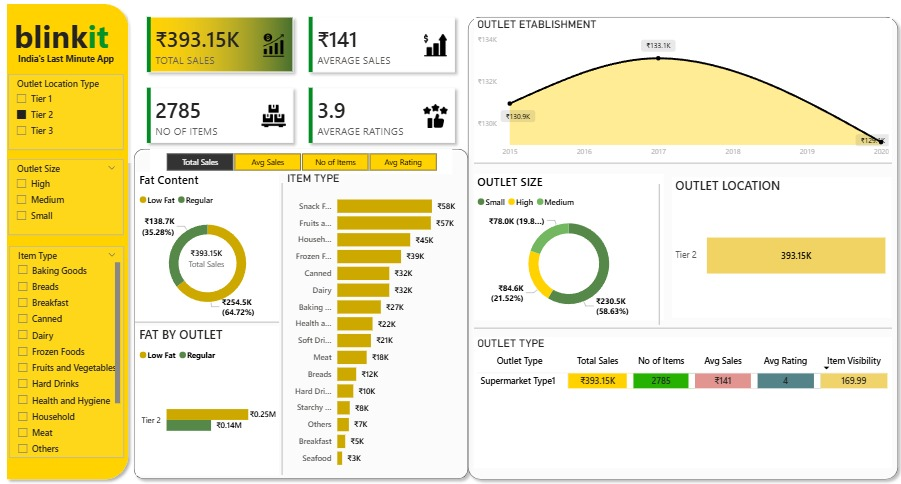

The page's visual inventory and layout, read from the dashboard file:
{"tool":"powerbi","page":{"name":"Page 1","canvas":[1400,800],"ordinal":0},"visuals":[{"type":"shape","box":[10,0,205,750],"z":0},{"type":"textbox","box":[26.8,20.5,159.1,75.6],"z":1000},{"type":"textbox","box":[15.7,80.3,190.6,31.5],"z":2000},{"type":"cardVisual","fields":{"Data":["BlinkIT Grocery Data.Total Sales","BlinkIT Grocery Data.Avg Sales","BlinkIT Grocery Data.No of Items","BlinkIT Grocery Data.Avg Rating"]},"box":[206.3,0,532.3,253.5],"z":3000},{"type":"shape","box":[206.3,223.6,532.3,526],"z":4000},{"type":"donutChart","title":"Fat Content","fields":{"Y":["BlinkIT Grocery Data.Total Sales"],"Category":["BlinkIT Grocery Data.Item Fat Content"]},"box":[218.3,268.3,220,230],"z":5000},{"type":"slicer","fields":{"Values":["Metrics 3.Metrics"]},"box":[239.4,233.1,464.6,39.4],"z":6000},{"type":"cardVisual","fields":{"Data":["BlinkIT Grocery Data.Total Sales"]},"box":[268.3,365,118.3,71.7],"z":7000},{"type":"clusteredBarChart","title":"FAT BY OUTLET","fields":{"Y":["BlinkIT Grocery Data.Total Sales"],"Category":["BlinkIT Grocery Data.Outlet Location Type"],"Series":["BlinkIT Grocery Data.Item Fat Content"]},"box":[218.9,503.9,220.5,229.9],"z":8000},{"type":"shape","box":[216.7,455,221.7,86.7],"z":9000},{"type":"shape","box":[434.6,285,15.7,448.8],"z":10000},{"type":"barChart","title":"ITEM TYPE","fields":{"Y":["BlinkIT Grocery Data.Total Sales"],"Category":["BlinkIT Grocery Data.Item Type"]},"box":[445.7,267.7,274,466.1],"z":11000},{"type":"shape","box":[720,20,680,730],"z":12000},{"type":"lineChart","title":"OUTLET ETABLISHMENT","fields":{"Y":["BlinkIT Grocery Data.Total Sales"],"Category":["BlinkIT Grocery Data.Outlet Establishment Year"]},"box":[738.3,30,643.3,223.3],"z":13000},{"type":"donutChart","title":"OUTLET SIZE","fields":{"Y":["BlinkIT Grocery Data.Total Sales"],"Category":["BlinkIT Grocery Data.Outlet Size"]},"box":[738.3,270,291.7,225],"z":14000},{"type":"shape","box":[1016.7,286.7,13.3,216.7],"z":15000},{"type":"funnel","title":"OUTLET LOCATION","fields":{"Category":["BlinkIT Grocery Data.Outlet Location Type"],"Y":["Sum(BlinkIT Grocery Data.Sales)"]},"box":[1043.3,275,338.3,216.7],"z":16000},{"type":"shape","box":[738.3,465,643.3,86.7],"z":17000},{"type":"pivotTable","title":"OUTLET TYPE","fields":{"Rows":["BlinkIT Grocery Data.Outlet Type"],"Values":["BlinkIT Grocery Data.Total Sales","BlinkIT Grocery Data.No of Items","BlinkIT Grocery Data.Avg Sales","BlinkIT Grocery Data.Avg Rating","Sum(BlinkIT Grocery Data.Item Visibility)"]},"box":[738.3,521.7,643.3,201.7],"z":18000},{"type":"shape","box":[738.3,210,643.3,86.7],"z":19000},{"type":"slicer","fields":{"Values":["BlinkIT Grocery Data.Outlet Location Type"]},"box":[21.7,116.7,178.3,116.7],"z":20000},{"type":"slicer","fields":{"Values":["BlinkIT Grocery Data.Outlet Size"]},"box":[21.7,248.3,178.3,116.7],"z":21000},{"type":"slicer","fields":{"Values":["BlinkIT Grocery Data.Item Type"]},"box":[23.3,381.7,176.7,341.7],"z":22000}]}

Visuals, with their boxes on the page's 1400x800 design canvas (x1, y1, x2, y2). These are canvas units, not pixel positions in the 901x484 screenshot, which may show the page scaled, cropped or inside an application window:
shape: 10 0 215 750
textbox: 27 20 186 96
textbox: 16 80 206 112
cardVisual - BlinkIT Grocery Data.Total Sales x BlinkIT Grocery Data.Avg Sales: 206 0 739 254
shape: 206 224 739 750
"Fat Content" donutChart: 218 268 438 498
slicer - Metrics 3.Metrics: 239 233 704 272
cardVisual - BlinkIT Grocery Data.Total Sales: 268 365 387 437
"FAT BY OUTLET" clusteredBarChart: 219 504 439 734
shape: 217 455 438 542
shape: 435 285 450 734
"ITEM TYPE" barChart: 446 268 720 734
shape: 720 20 1400 750
"OUTLET ETABLISHMENT" lineChart: 738 30 1382 253
"OUTLET SIZE" donutChart: 738 270 1030 495
shape: 1017 287 1030 503
"OUTLET LOCATION" funnel: 1043 275 1382 492
shape: 738 465 1382 552
"OUTLET TYPE" pivotTable: 738 522 1382 723
shape: 738 210 1382 297
slicer - BlinkIT Grocery Data.Outlet Location Type: 22 117 200 233
slicer - BlinkIT Grocery Data.Outlet Size: 22 248 200 365
slicer - BlinkIT Grocery Data.Item Type: 23 382 200 723
